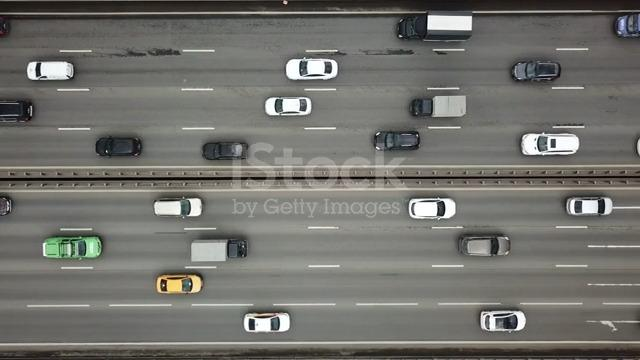Cars: (43, 236, 103, 260), (521, 132, 580, 156), (286, 57, 339, 81), (512, 61, 561, 83), (157, 273, 204, 295), (265, 96, 312, 117), (374, 130, 421, 151), (27, 61, 75, 81), (615, 13, 640, 38)
